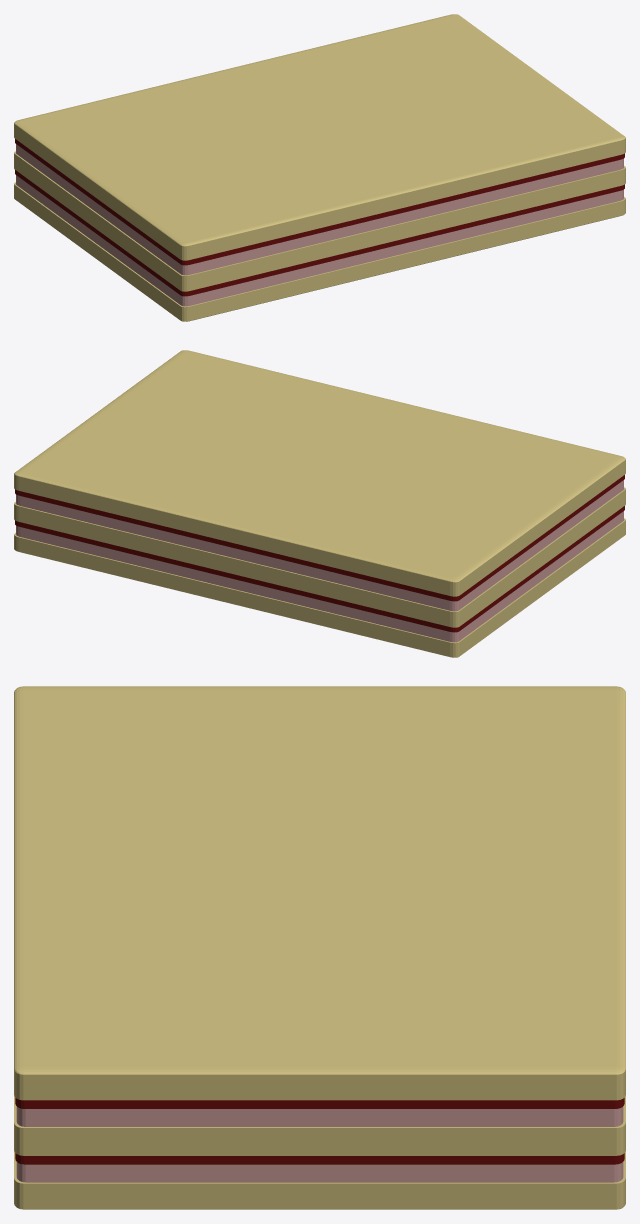
File: sheet_12x18.glb
The picture shows the model from 3 angles, top to bottom: view 1: azimuth 30°, elevation 25°; view 2: azimuth 150°, elevation 25°; view 3: azimuth 270°, elevation 25°; orthographic projection. The views are drawn at different scales.
Parts seen in each view (by area): view 1: 12x18_Cake, 12x18_Frosting, 12x18_Filling; view 2: 12x18_Cake, 12x18_Frosting, 12x18_Filling; view 3: 12x18_Cake, 12x18_Frosting, 12x18_Filling.
Part boxes in pixels (x1,y1,x2,y2): 12x18_Cake: [14, 14, 625, 321]; 12x18_Frosting: [16, 144, 623, 306]; 12x18_Filling: [15, 139, 624, 296]; 12x18_Cake: [14, 350, 625, 657]; 12x18_Frosting: [16, 480, 623, 642]; 12x18_Filling: [15, 475, 624, 632]; 12x18_Cake: [14, 686, 625, 1209]; 12x18_Frosting: [16, 1106, 623, 1182]; 12x18_Filling: [15, 1098, 624, 1164].
Size of the model in its own units: 36 by 6 by 24.
